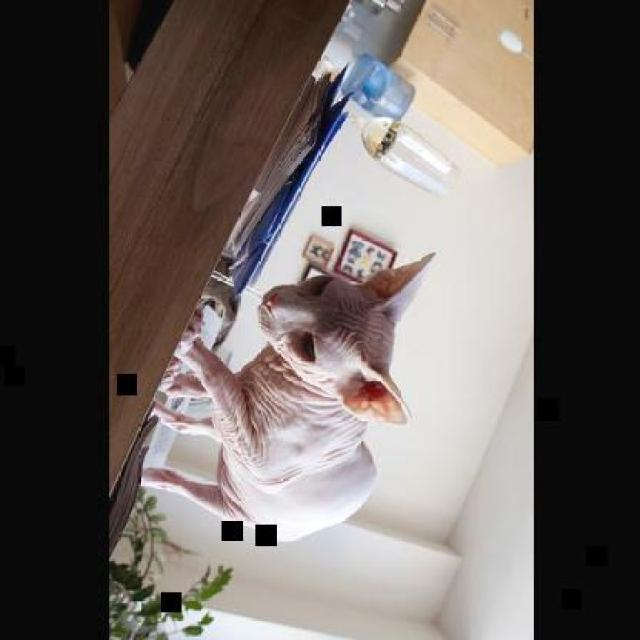unauthorized: (138, 249, 436, 543)
